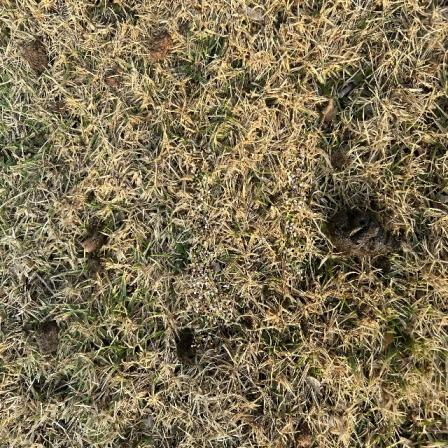dog-poop: (331, 209, 391, 260)
